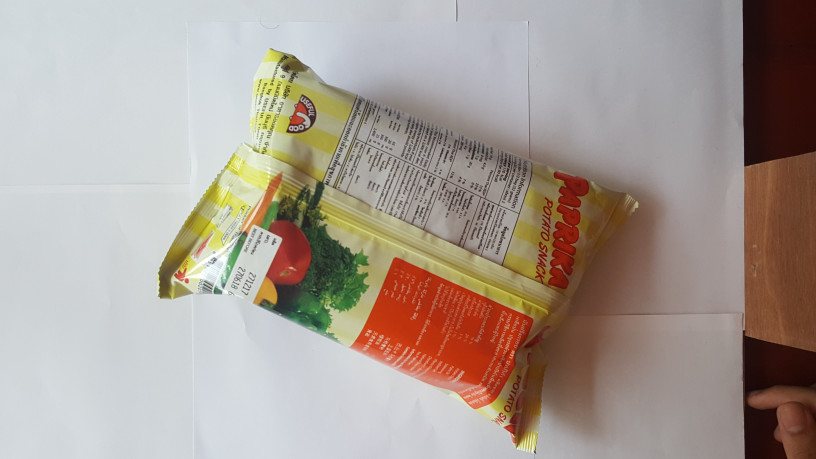paprika: (130, 37, 652, 459)
